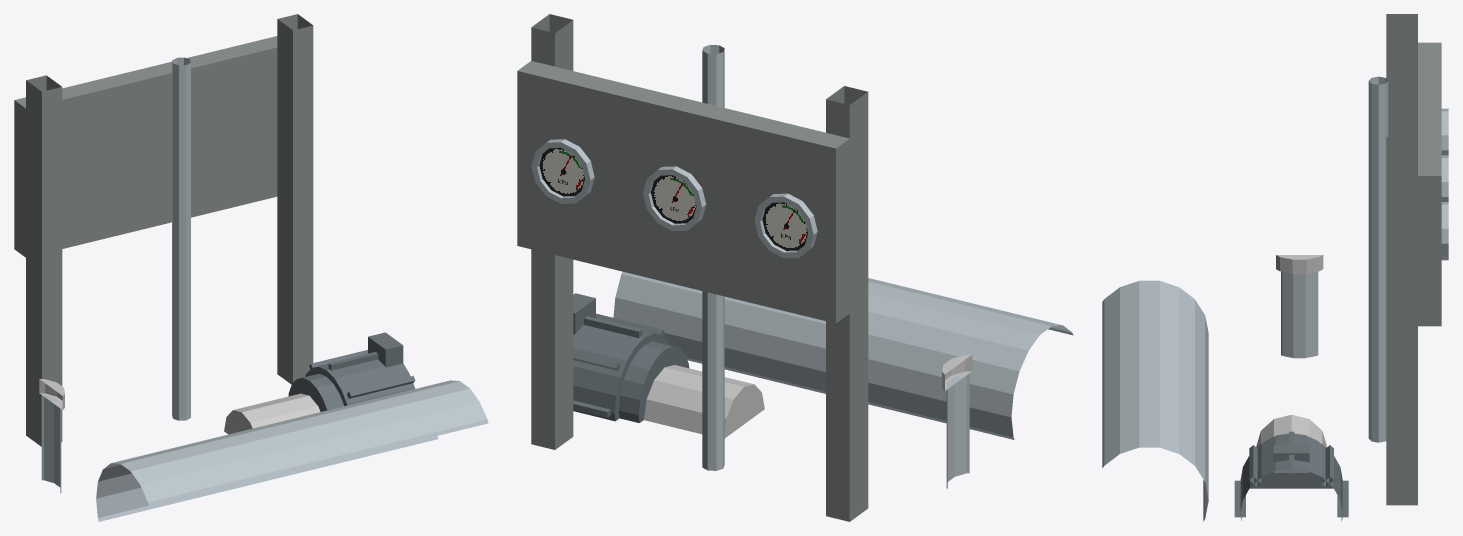
The model's file is cell_39.obj.
The picture shows the model from 3 angles, left to right: view 1: azimuth 30°, elevation 25°; view 2: azimuth 150°, elevation 25°; view 3: azimuth 270°, elevation 25°; orthographic projection. The views are drawn at different scales.
Size of the model in its own units: 1 by 1 by 0.878.
